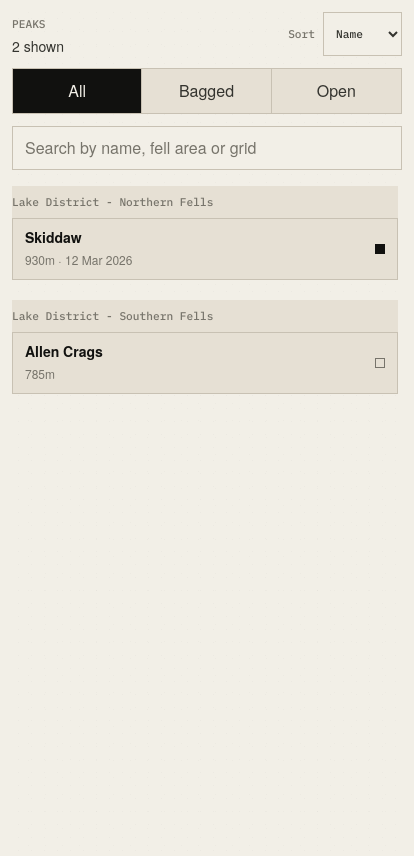
Scenario: PeakListPanel › filters by bagged state and search text
Check: the element named "Filter peaks" is shown, box [12,68,402,114]
Click the button "Bagged" at (207, 91), box [142,69,272,113]
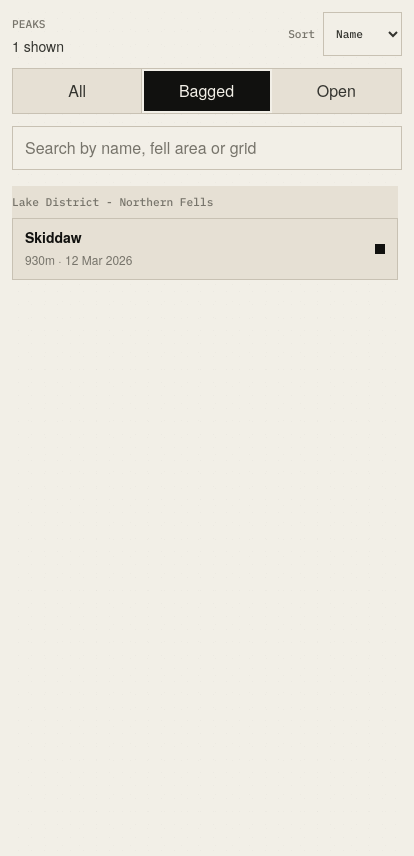
Check: the text "Skiddaw" is shown, box [25,227,82,247]
Check: the button "Allen Crags" is gone
Type "allen" into the search field named "Search peaks" at (207, 148), box [12,126,402,170]
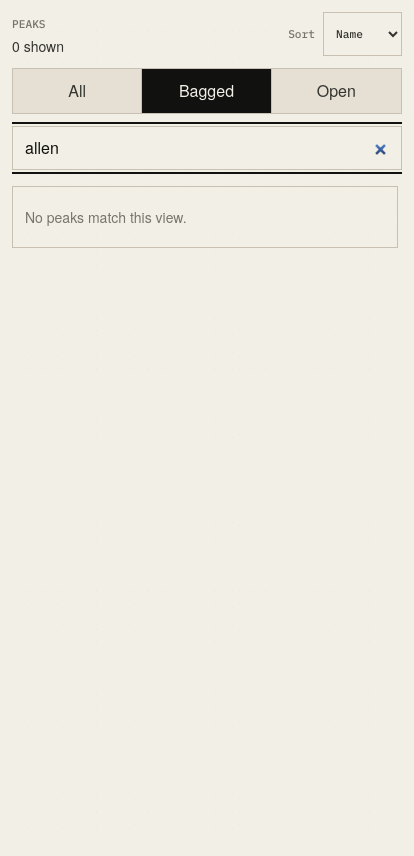
Check: the text "No peaks match this view." is shown, box [12,186,398,248]
